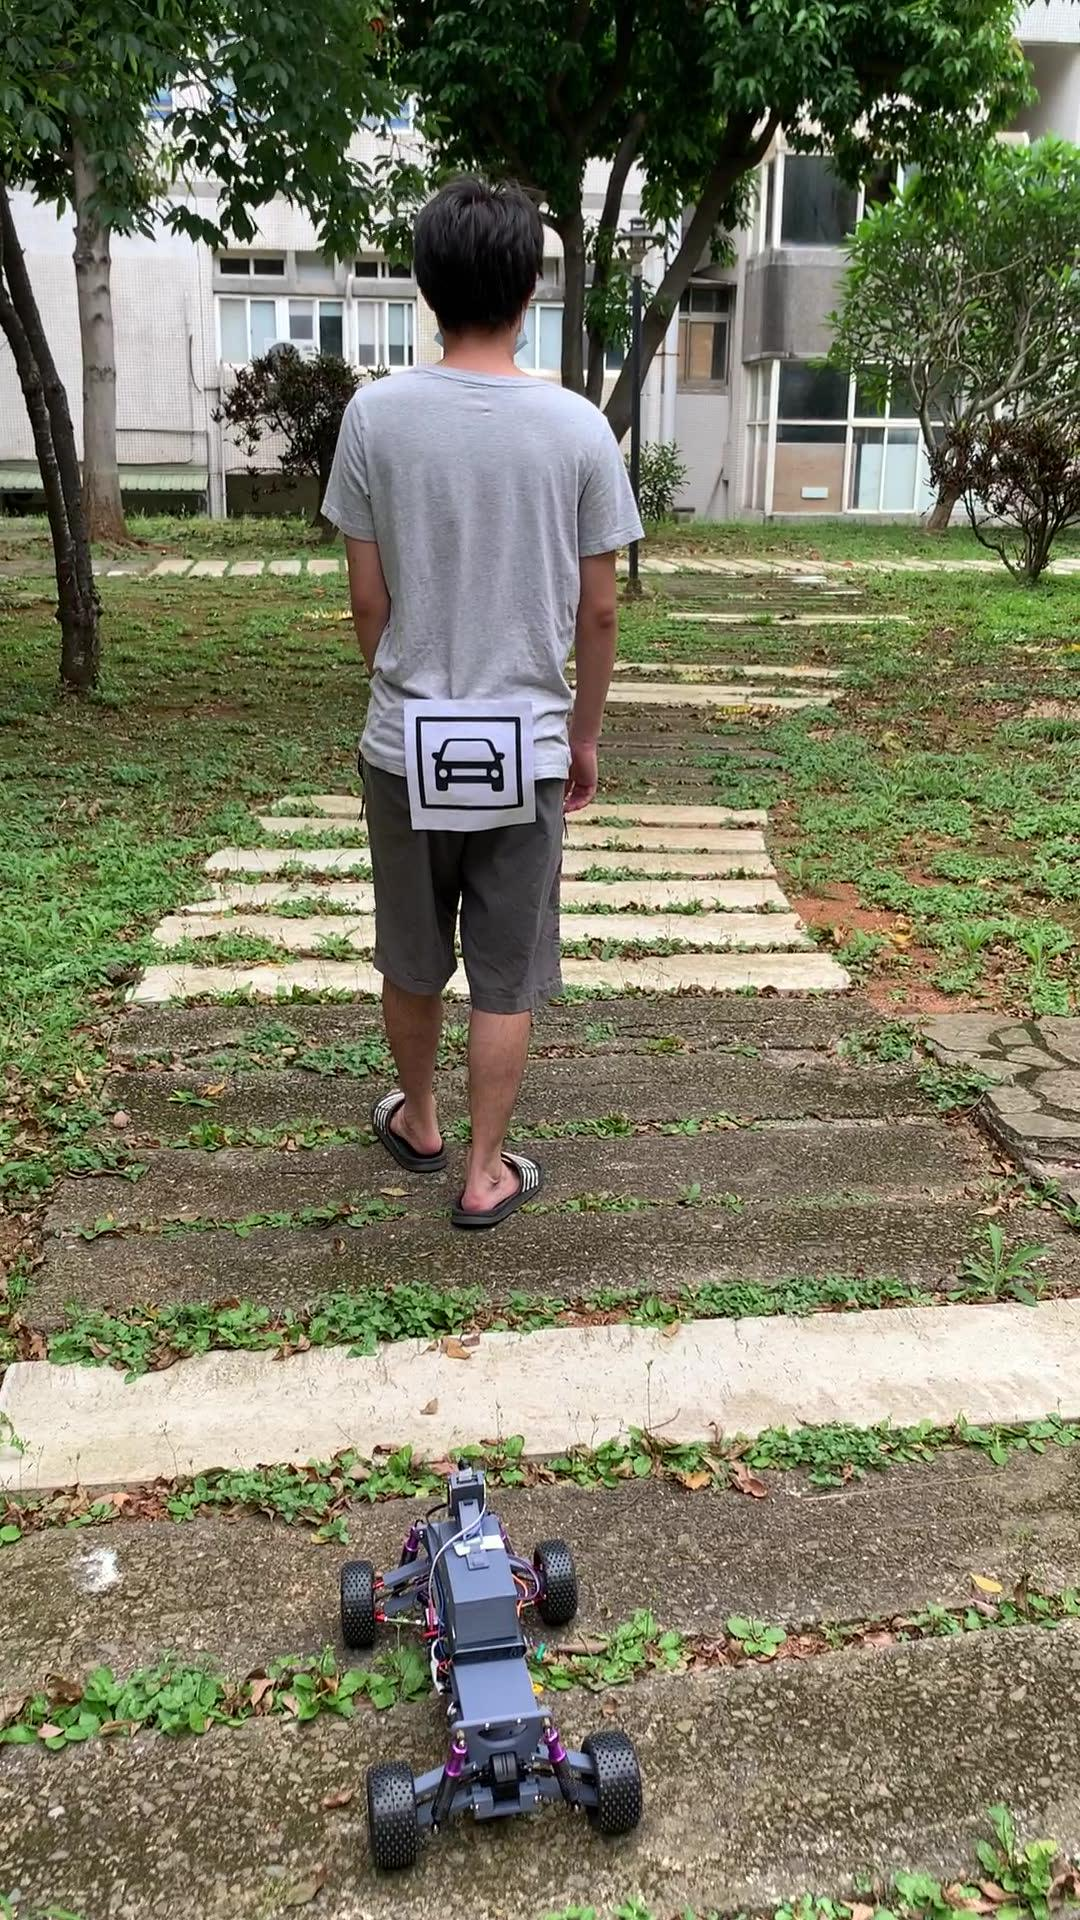car_img: (415, 715, 524, 811)
